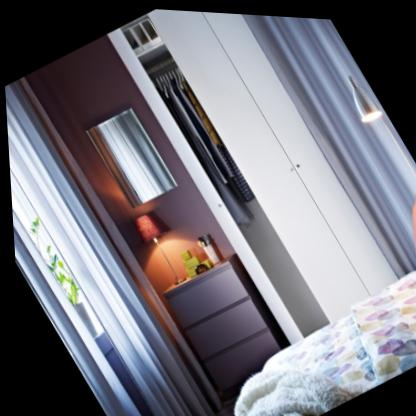Bed: (143, 148, 416, 416)
